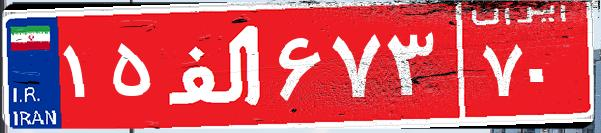0: (525, 38, 570, 115)
1: (57, 26, 110, 107)
3: (385, 28, 445, 110)
5: (110, 28, 158, 105)
6: (273, 28, 330, 110)
7: (330, 28, 385, 110), (475, 38, 525, 113)
الف: (158, 15, 273, 115)
